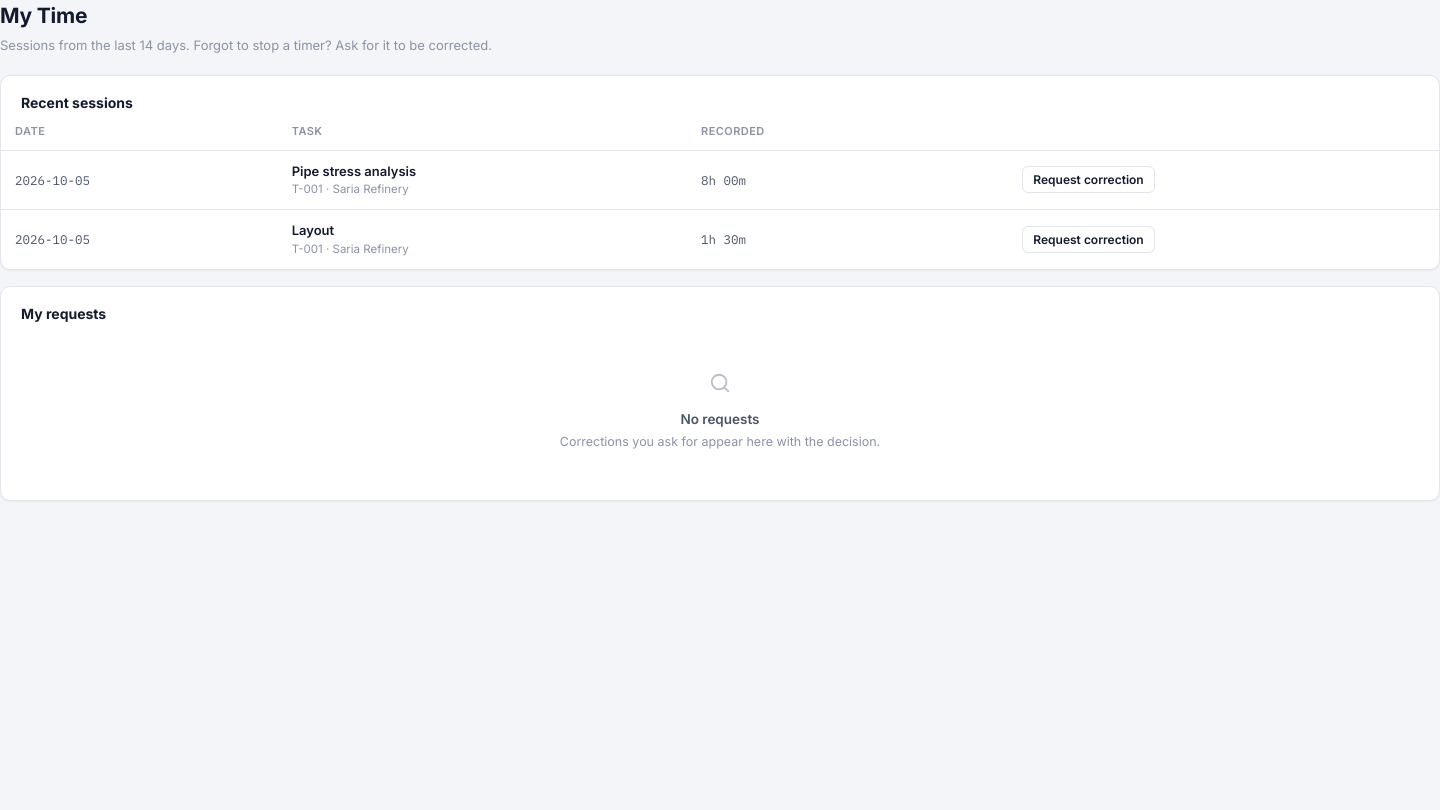
Test: My Time › shows the server’s reason when a request is refused, and keeps the form open
The image size is (1440, 810).
Click the button "Request correction" in the row of "Layout": [1088, 240] box [1022,226,1155,253]
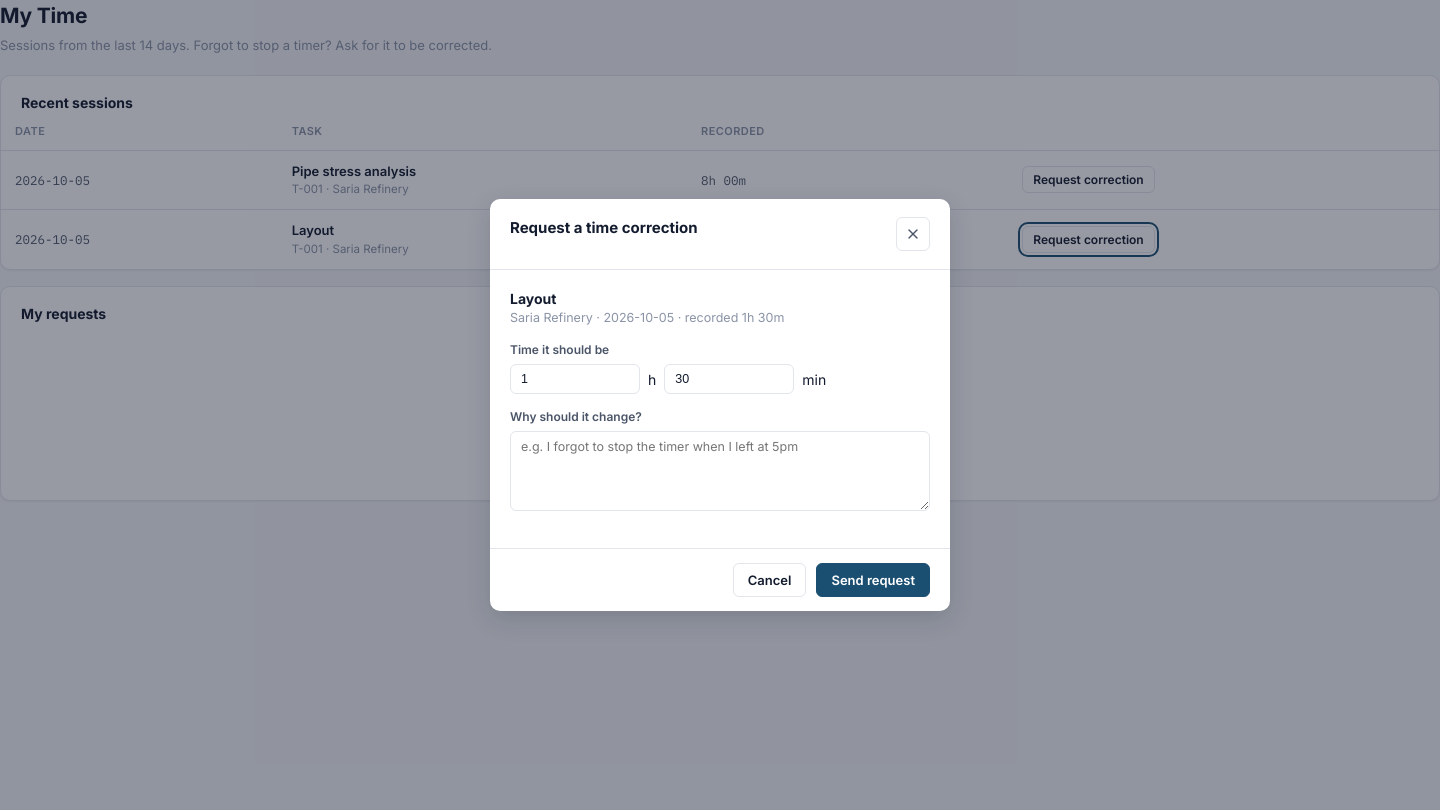
Replace the text in the number field named "Hours" with "2": [575, 379] box [510,364,640,394]
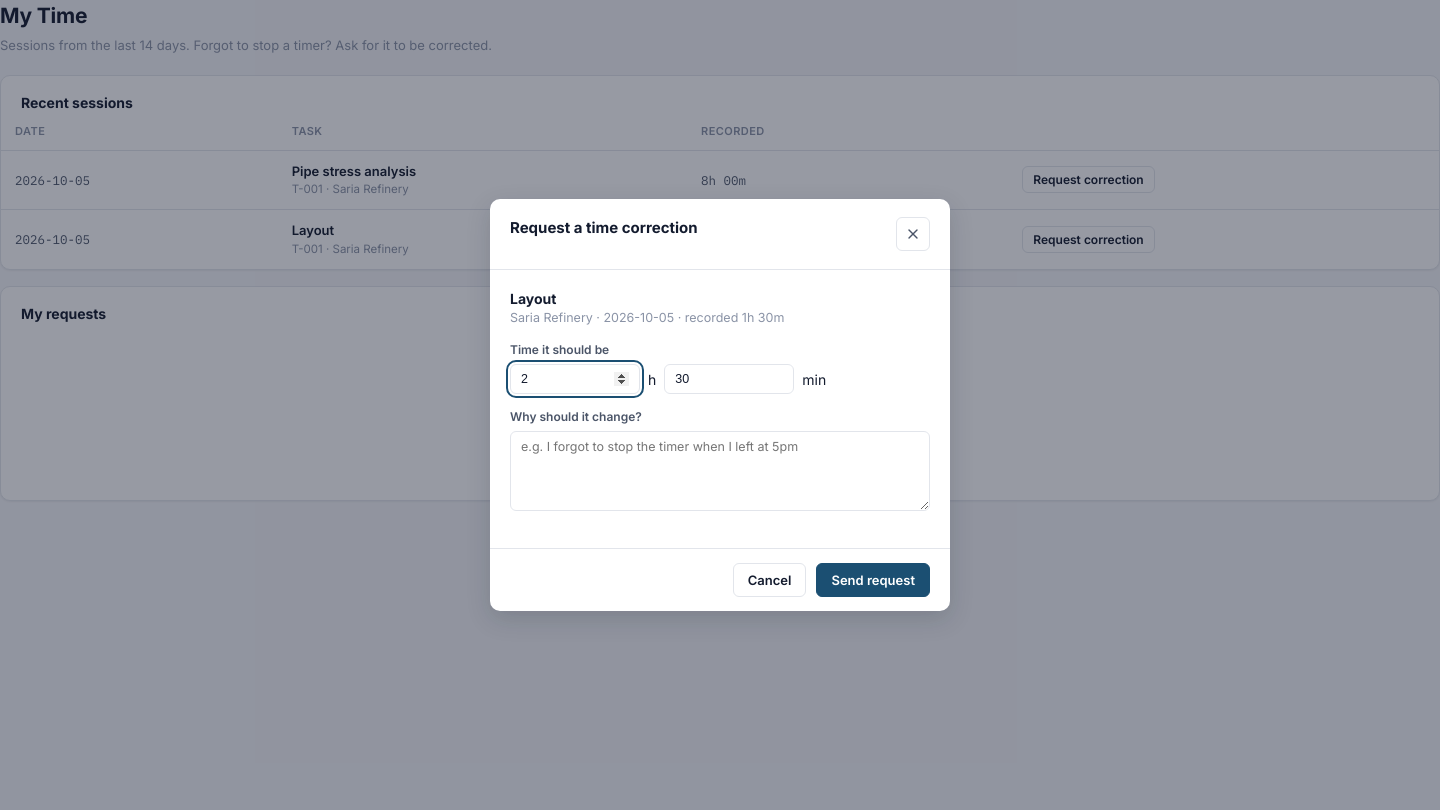
In the text box with placeholder "e.g. I forgot to stop the timer when I left at 5pm": [720, 471] box [510,431,930,511], type "More time please"
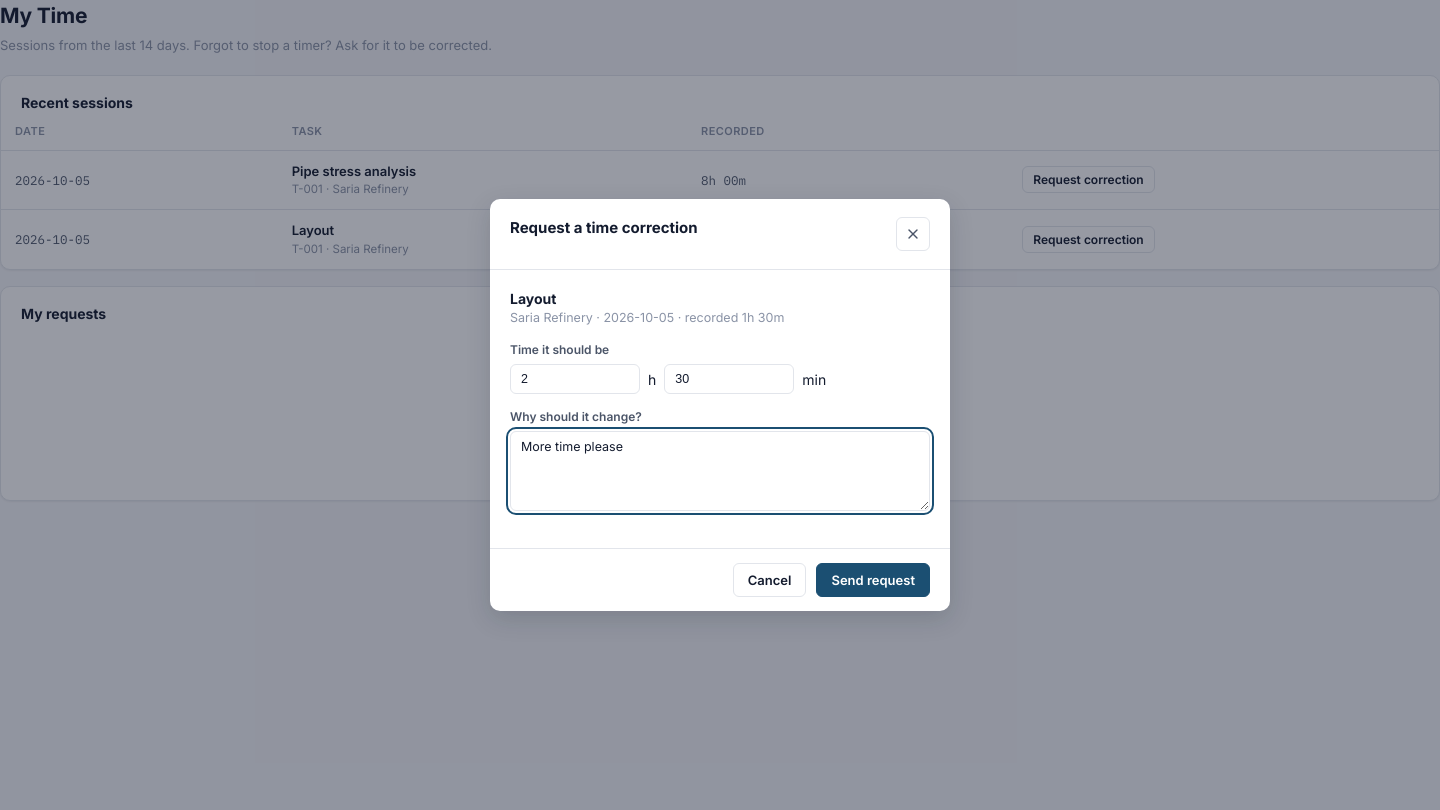
Click the button "Send request": [873, 580] box [816,563,930,597]
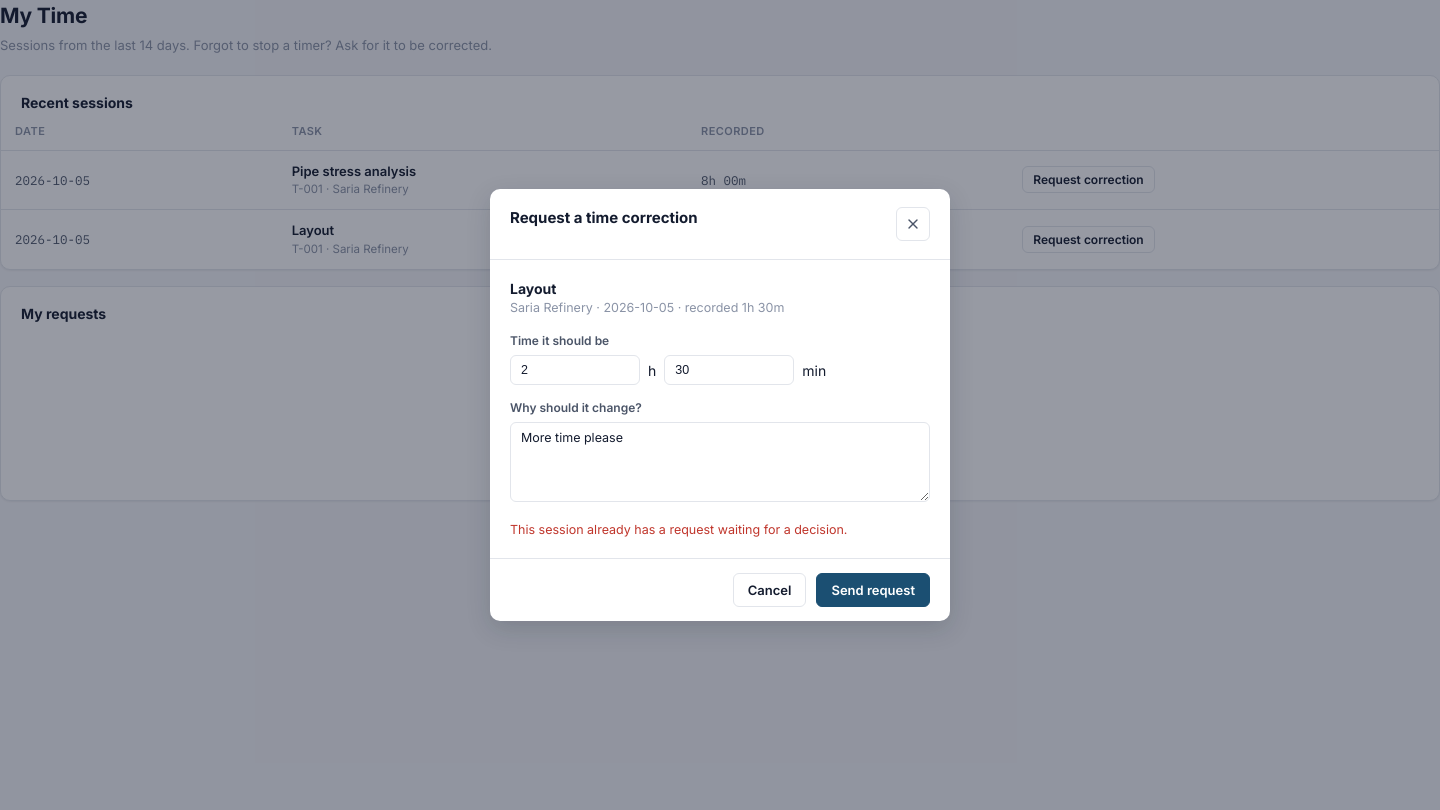
Expected: the button "Send request" is shown, [816,573,930,607]
Expected: the message shows "already has a request", [510,522,847,537]
